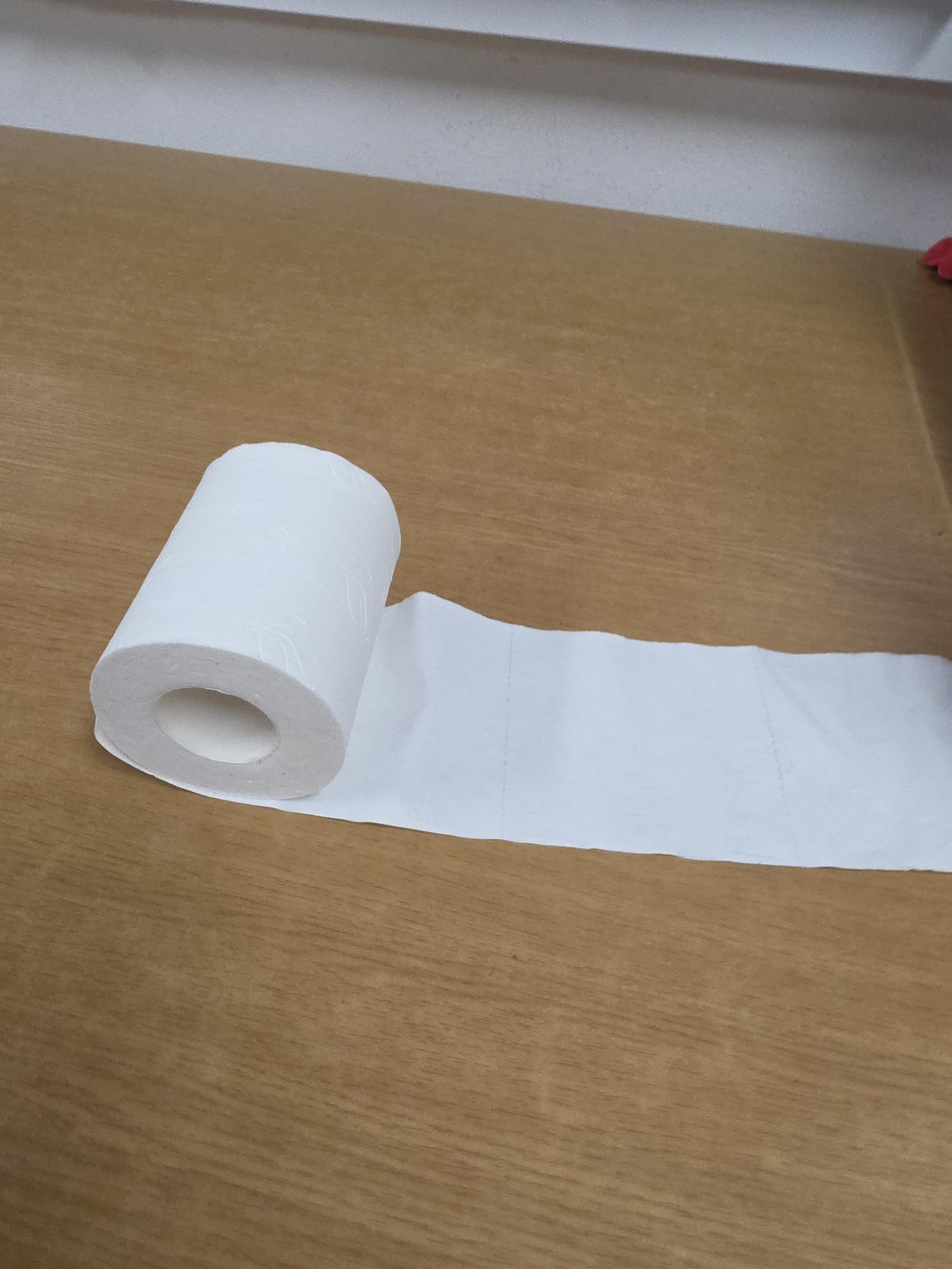tissue: (89, 442, 951, 872)
